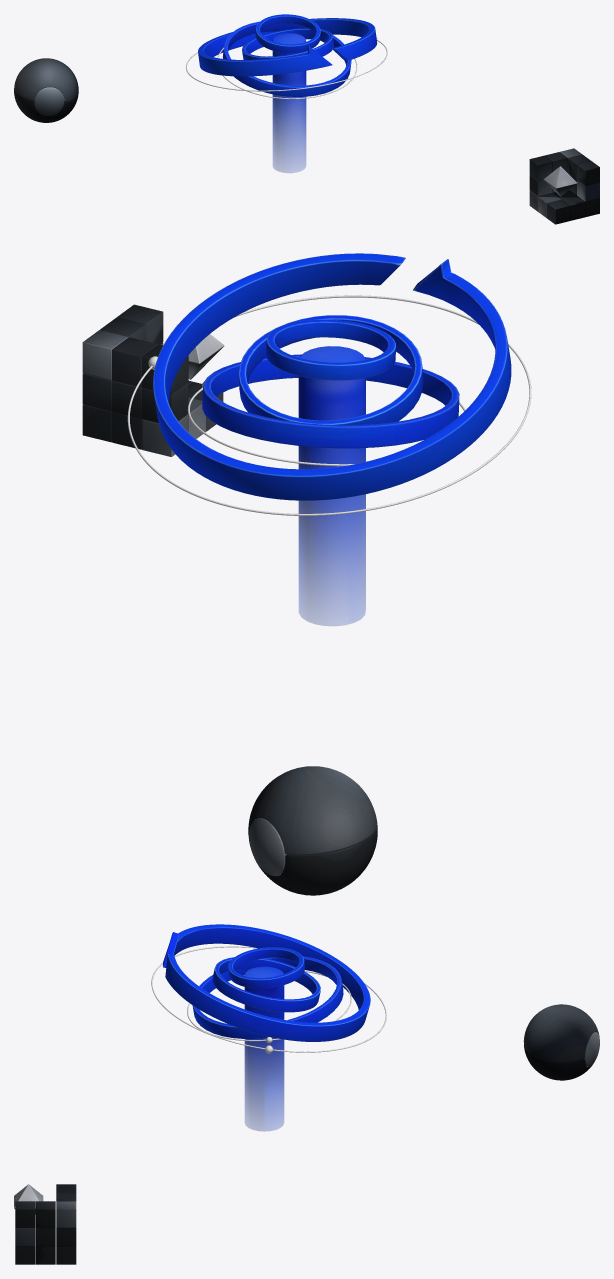
Rendered from banner-dark.glb.
The picture shows the model from 3 angles, top to bottom: view 1: azimuth 30°, elevation 25°; view 2: azimuth 150°, elevation 25°; view 3: azimuth 270°, elevation 25°; orthographic projection. The views are drawn at different scales.
Visible parts, largest first — view 1: round4, Cube, pillar, spheric, round3, round1, round2, Cube2, soft_light; view 2: round4, spheric, pillar, Cube, round3, round1, round2, soft_light; view 3: round4, spheric, pillar, Cube, round2, round3, round1, soft_light.
Boxes of the visible parts, x1,y1,x2,y2 form: round4: (198,18,377,76); Cube: (529,148,599,224); pillar: (272,33,306,172); spheric: (14,58,78,122); round3: (222,21,351,96); round1: (255,14,320,53); round2: (242,28,334,59); Cube2: (543,166,577,196); soft_light: (186,40,387,91); round4: (153,253,511,500); spheric: (248,766,377,895); pillar: (298,346,365,625); Cube: (82,304,223,456); round3: (202,354,459,448); round1: (266,319,395,380); round2: (238,315,423,424); soft_light: (127,295,531,515); round4: (163,924,370,1041); spheric: (523,1004,599,1080); pillar: (244,966,284,1131); Cube: (15,1184,76,1264); round2: (212,957,320,1012); round3: (192,956,343,1038); round1: (228,947,304,988); soft_light: (151,946,386,1052).
Size of the model in its own units: 89.08 by 42.2 by 110.
Materials: 4 (4 with a texture image).
